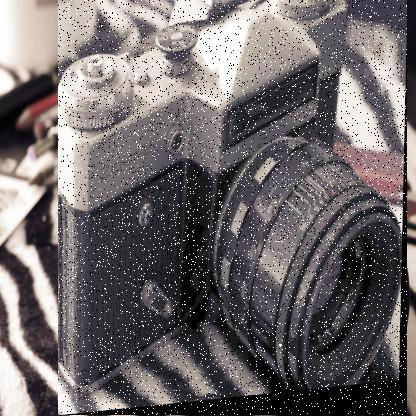Camera: (59, 1, 409, 416)
